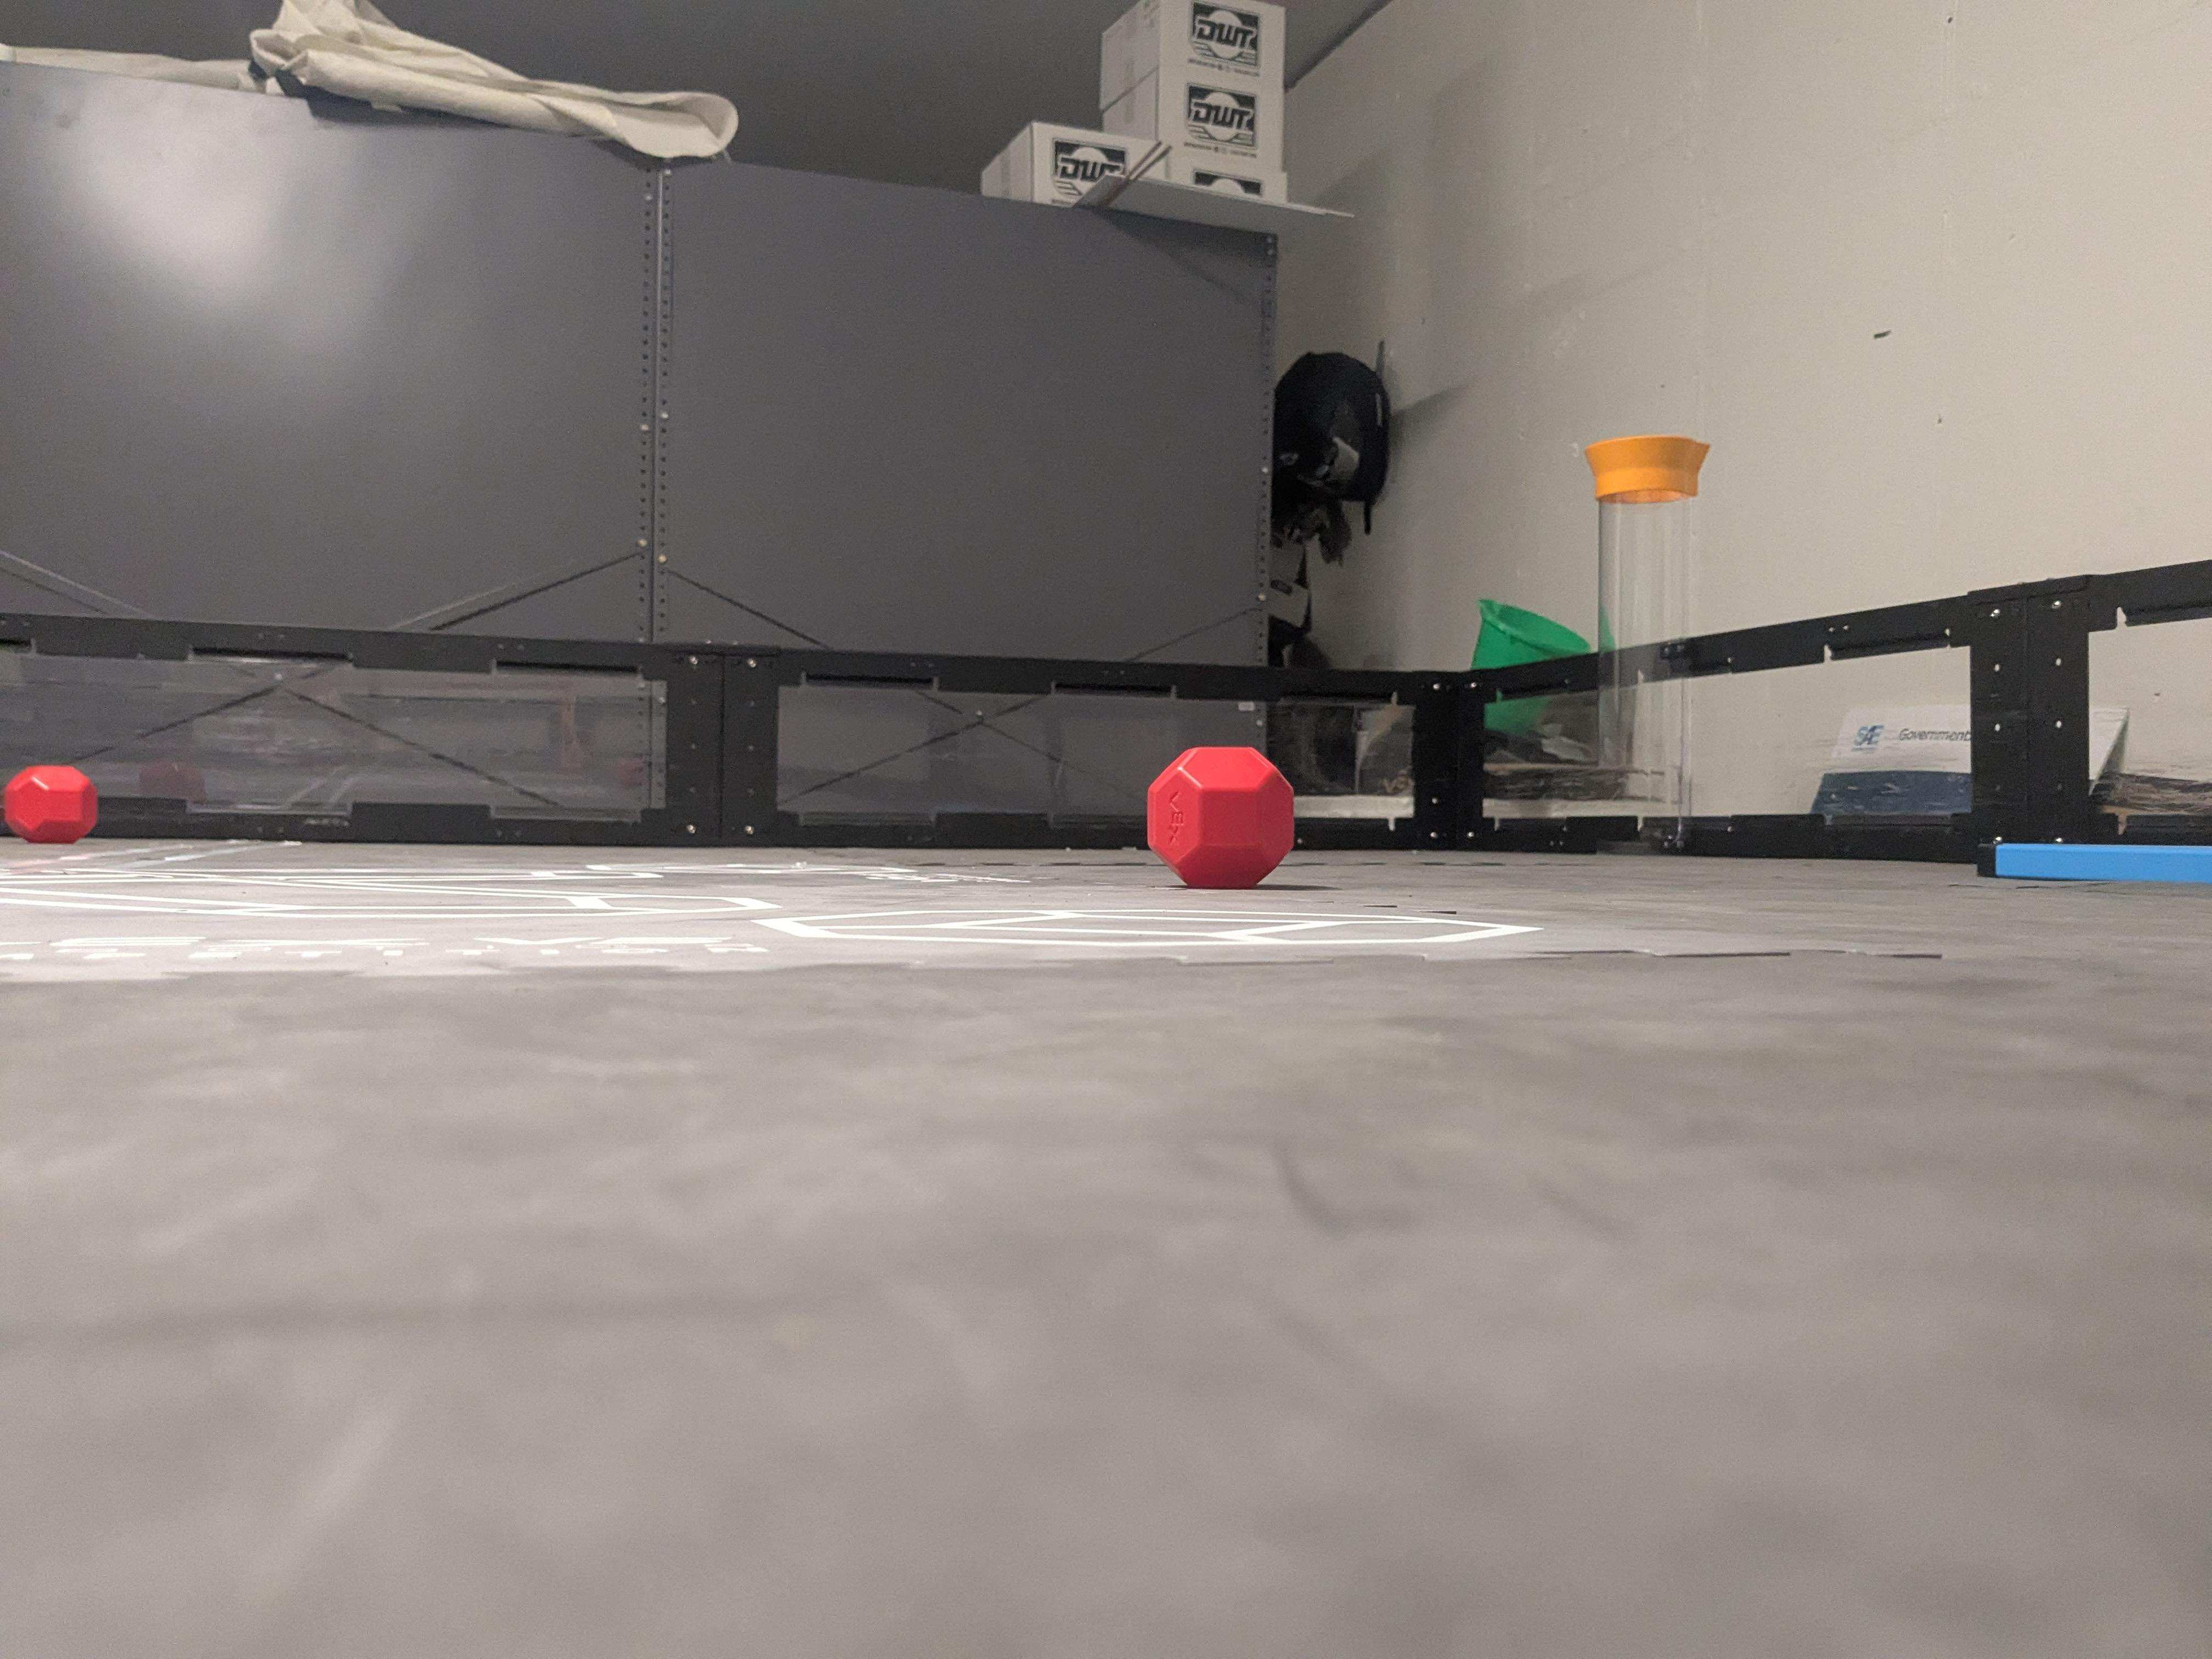Vex-Pieces-RED: (1143, 749, 1296, 889), (5, 765, 98, 843)
